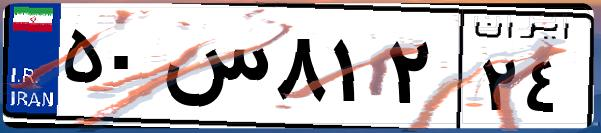0: (110, 28, 158, 98)
1: (330, 28, 385, 110)
2: (385, 28, 445, 110), (475, 38, 525, 113)
4: (525, 38, 570, 115)
5: (57, 26, 110, 100)
8: (270, 28, 330, 110)
س: (158, 20, 270, 120)
